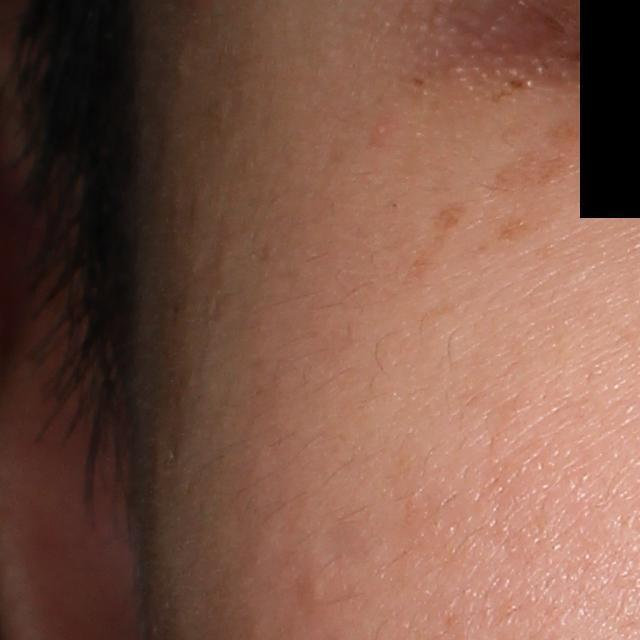comedo: (293, 564, 338, 610)
melasma: (481, 109, 602, 256), (398, 191, 463, 296)
